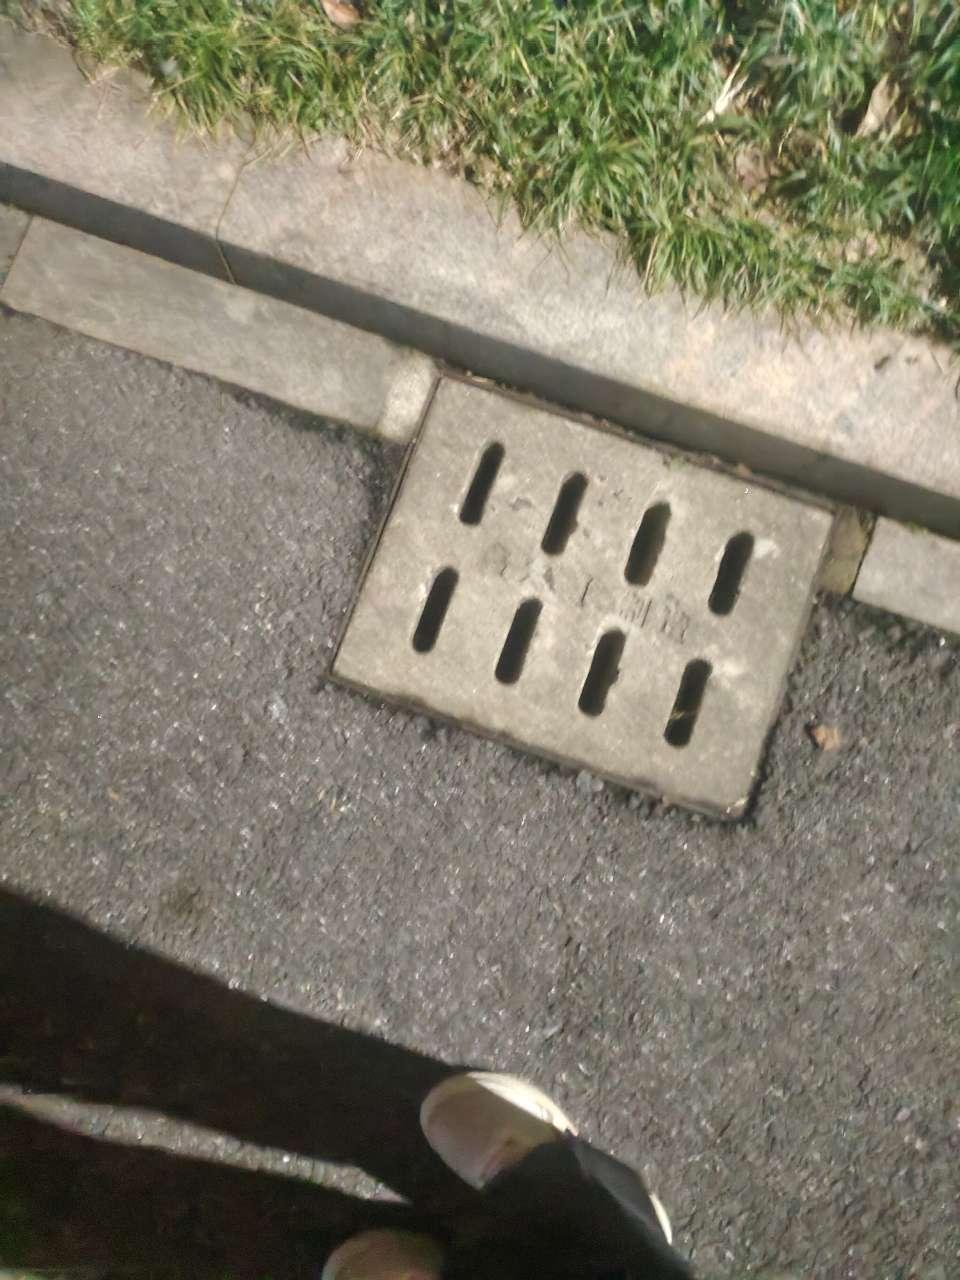wellcover: (301, 363, 850, 851)
